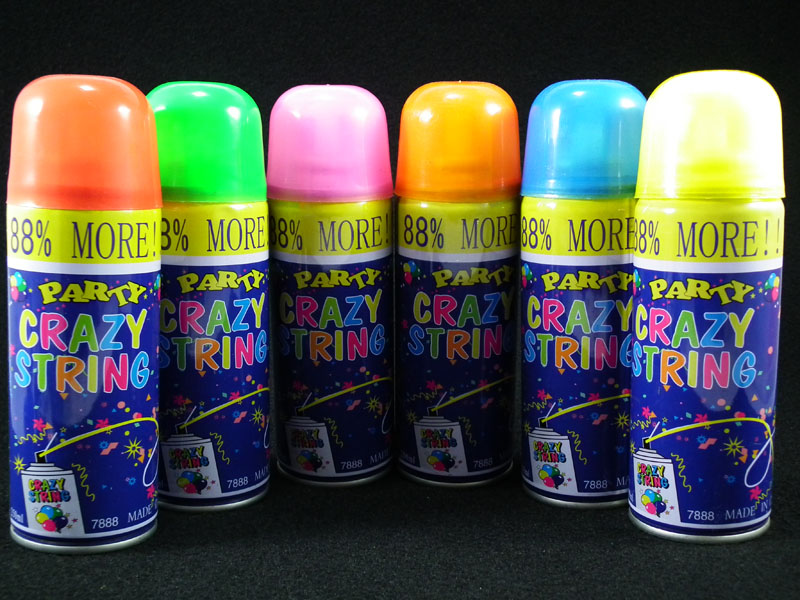Aerosol_cans: (628, 66, 788, 546), (3, 67, 160, 554), (513, 75, 648, 511), (142, 78, 273, 515), (266, 81, 399, 489), (394, 77, 522, 487)
